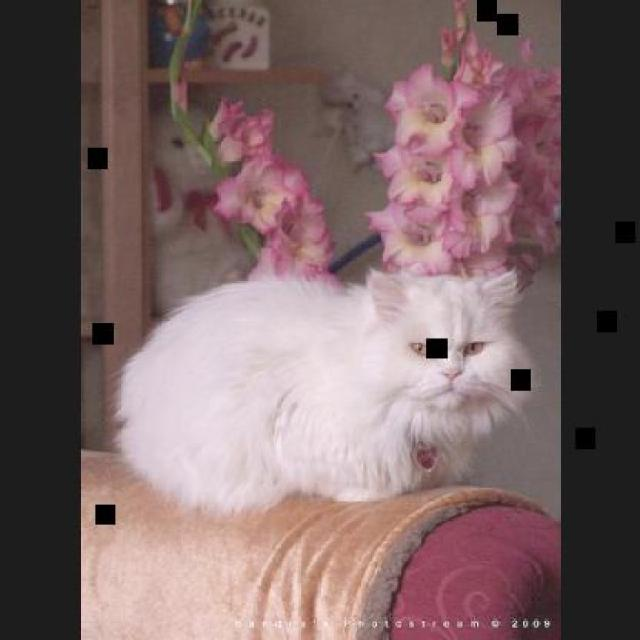unauthorized: (111, 265, 532, 517)
